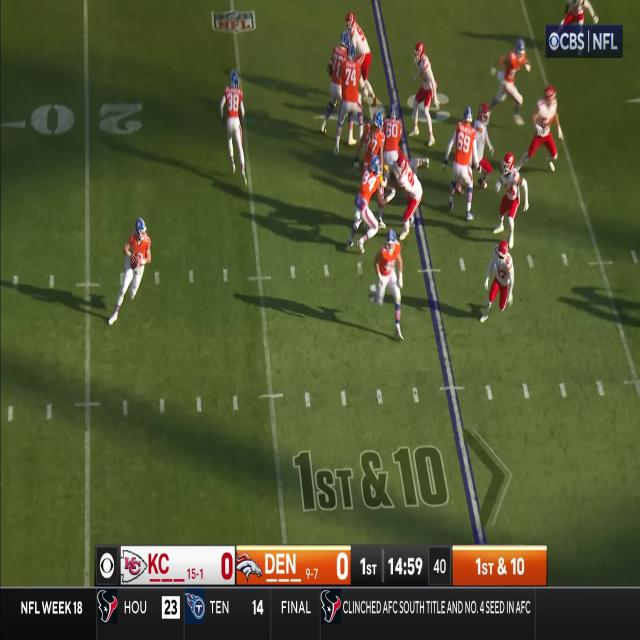Player: (444, 106, 477, 215), (118, 216, 150, 328), (334, 47, 366, 156), (491, 152, 528, 244), (374, 228, 404, 339), (350, 157, 384, 252), (478, 238, 516, 322), (221, 72, 248, 186), (527, 87, 564, 170), (408, 43, 437, 147), (394, 156, 425, 238), (498, 40, 530, 118), (328, 31, 349, 137), (473, 96, 493, 186), (362, 108, 382, 171), (346, 12, 370, 58), (384, 106, 401, 170)
